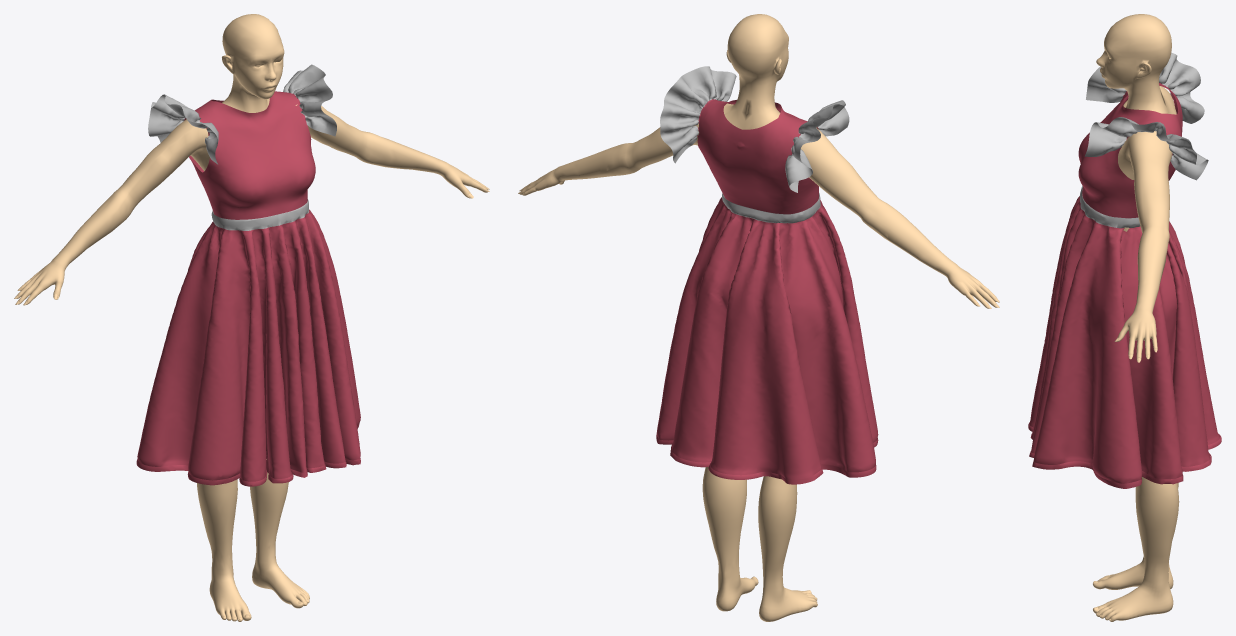
Rendered from dress4.glb.
3 renders of one model, left to right at view 1: azimuth 30°, elevation 25°; view 2: azimuth 150°, elevation 25°; view 3: azimuth 270°, elevation 25°, orthographic.
Parts seen in each view (by area): view 1: PinkDrees#14 (OBJ), Body; view 2: PinkDrees#14 (OBJ), Body; view 3: PinkDrees#14 (OBJ), Body.
Part boxes in pixels (x1=…): PinkDrees#14 (OBJ): x1=136, y1=64, x2=360, y2=486; Body: x1=16, y1=14, x2=489, y2=621; PinkDrees#14 (OBJ): x1=656, y1=66, x2=878, y2=484; Body: x1=519, y1=14, x2=996, y2=621; PinkDrees#14 (OBJ): x1=1028, y1=52, x2=1221, y2=488; Body: x1=1093, y1=14, x2=1179, y2=621.
Bounding box in the file's own units: 1.58 × 1.85 × 0.5546.
